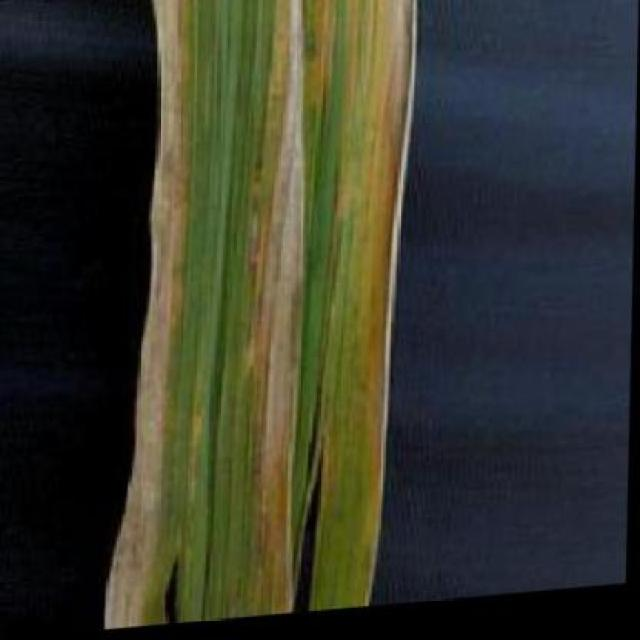Brown_Spot: (134, 0, 417, 615)
